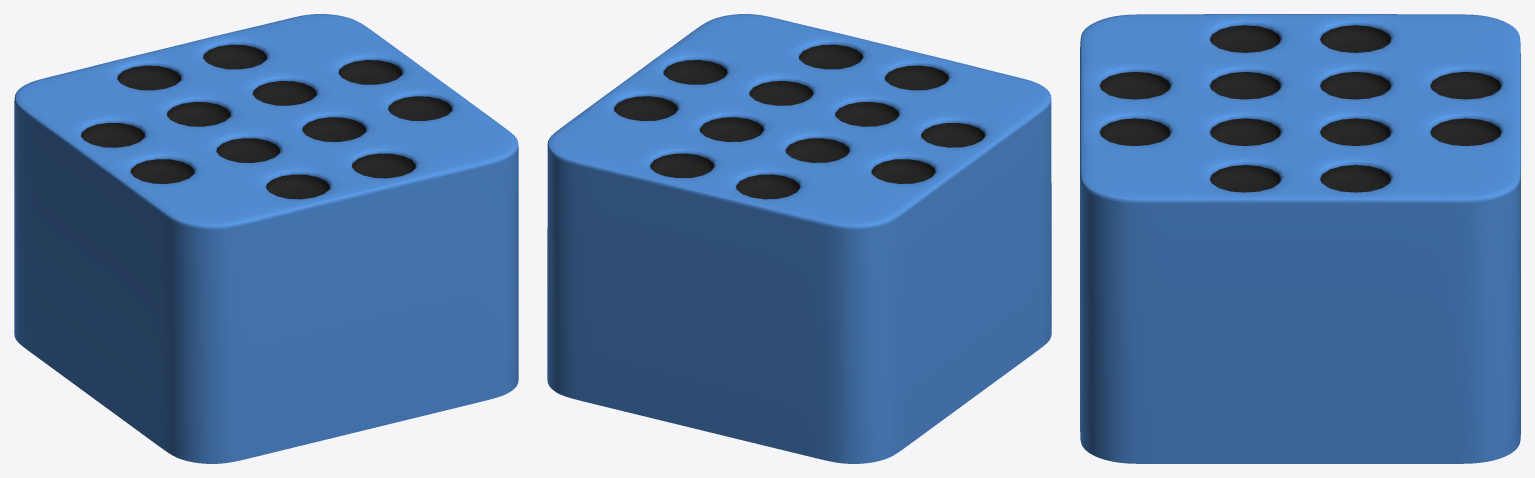
Rendered from WhackTable.fbx.
The picture shows the model from 3 angles, left to right: view 1: azimuth 30°, elevation 25°; view 2: azimuth 150°, elevation 25°; view 3: azimuth 270°, elevation 25°; orthographic projection. The views are drawn at different scales.
Visible parts, largest first — view 1: MiniGameTable; view 2: MiniGameTable; view 3: MiniGameTable.
Boxes of the visible parts, x1,y1,x2,y2 form: MiniGameTable: (14,14,518,463); MiniGameTable: (547,14,1051,463); MiniGameTable: (1080,14,1520,463).
Size of the model in its own units: 375 by 249 by 375.
